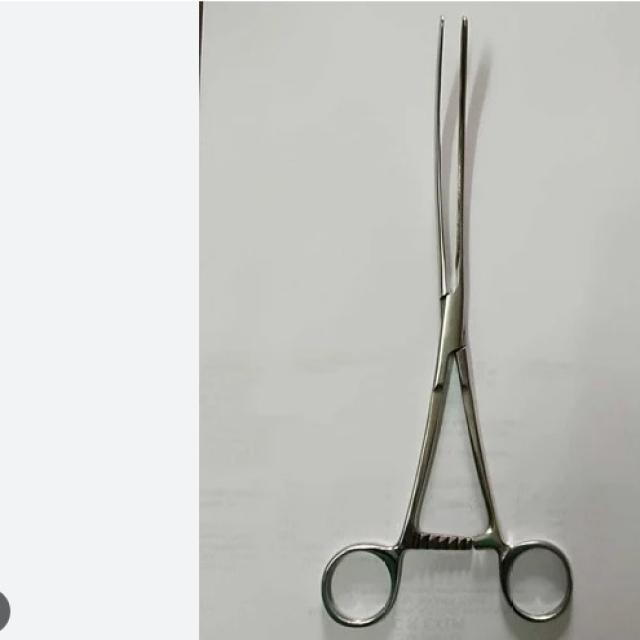Doyel Instestinal Forceps: (322, 10, 574, 624)
